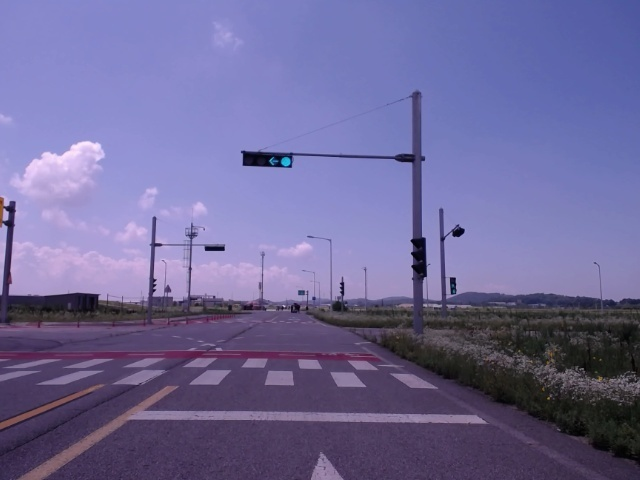all_green_4: (244, 152, 296, 168)
